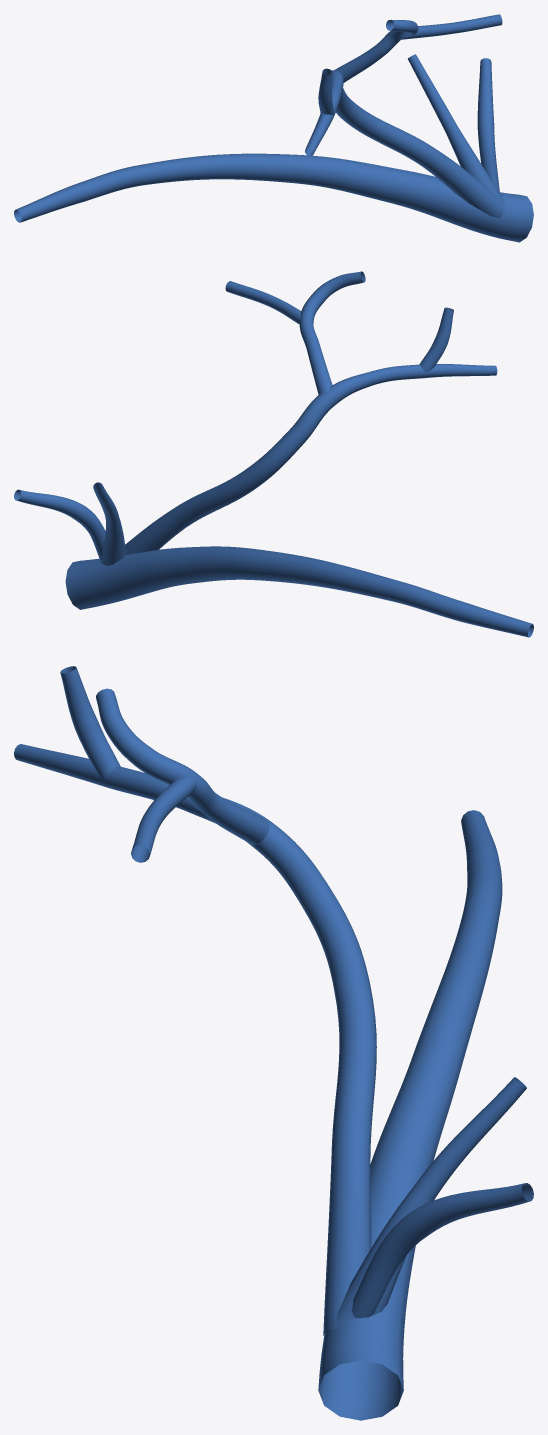
3 views of the same model, one above another, from view 1: azimuth 30°, elevation 25°; view 2: azimuth 150°, elevation 25°; view 3: azimuth 270°, elevation 25° (orthographic). The views are drawn at different scales.
Visible parts, largest first — view 1: 右肺下叶上静脉; view 2: 右肺下叶上静脉; view 3: 右肺下叶上静脉.
Part boxes in pixels (bbox=[...]): 右肺下叶上静脉: bbox=[14, 14, 533, 242]; 右肺下叶上静脉: bbox=[14, 271, 533, 637]; 右肺下叶上静脉: bbox=[14, 666, 533, 1420].
Bounding box in the file's own units: 0.1197 × 0.0753 × 0.0627.
